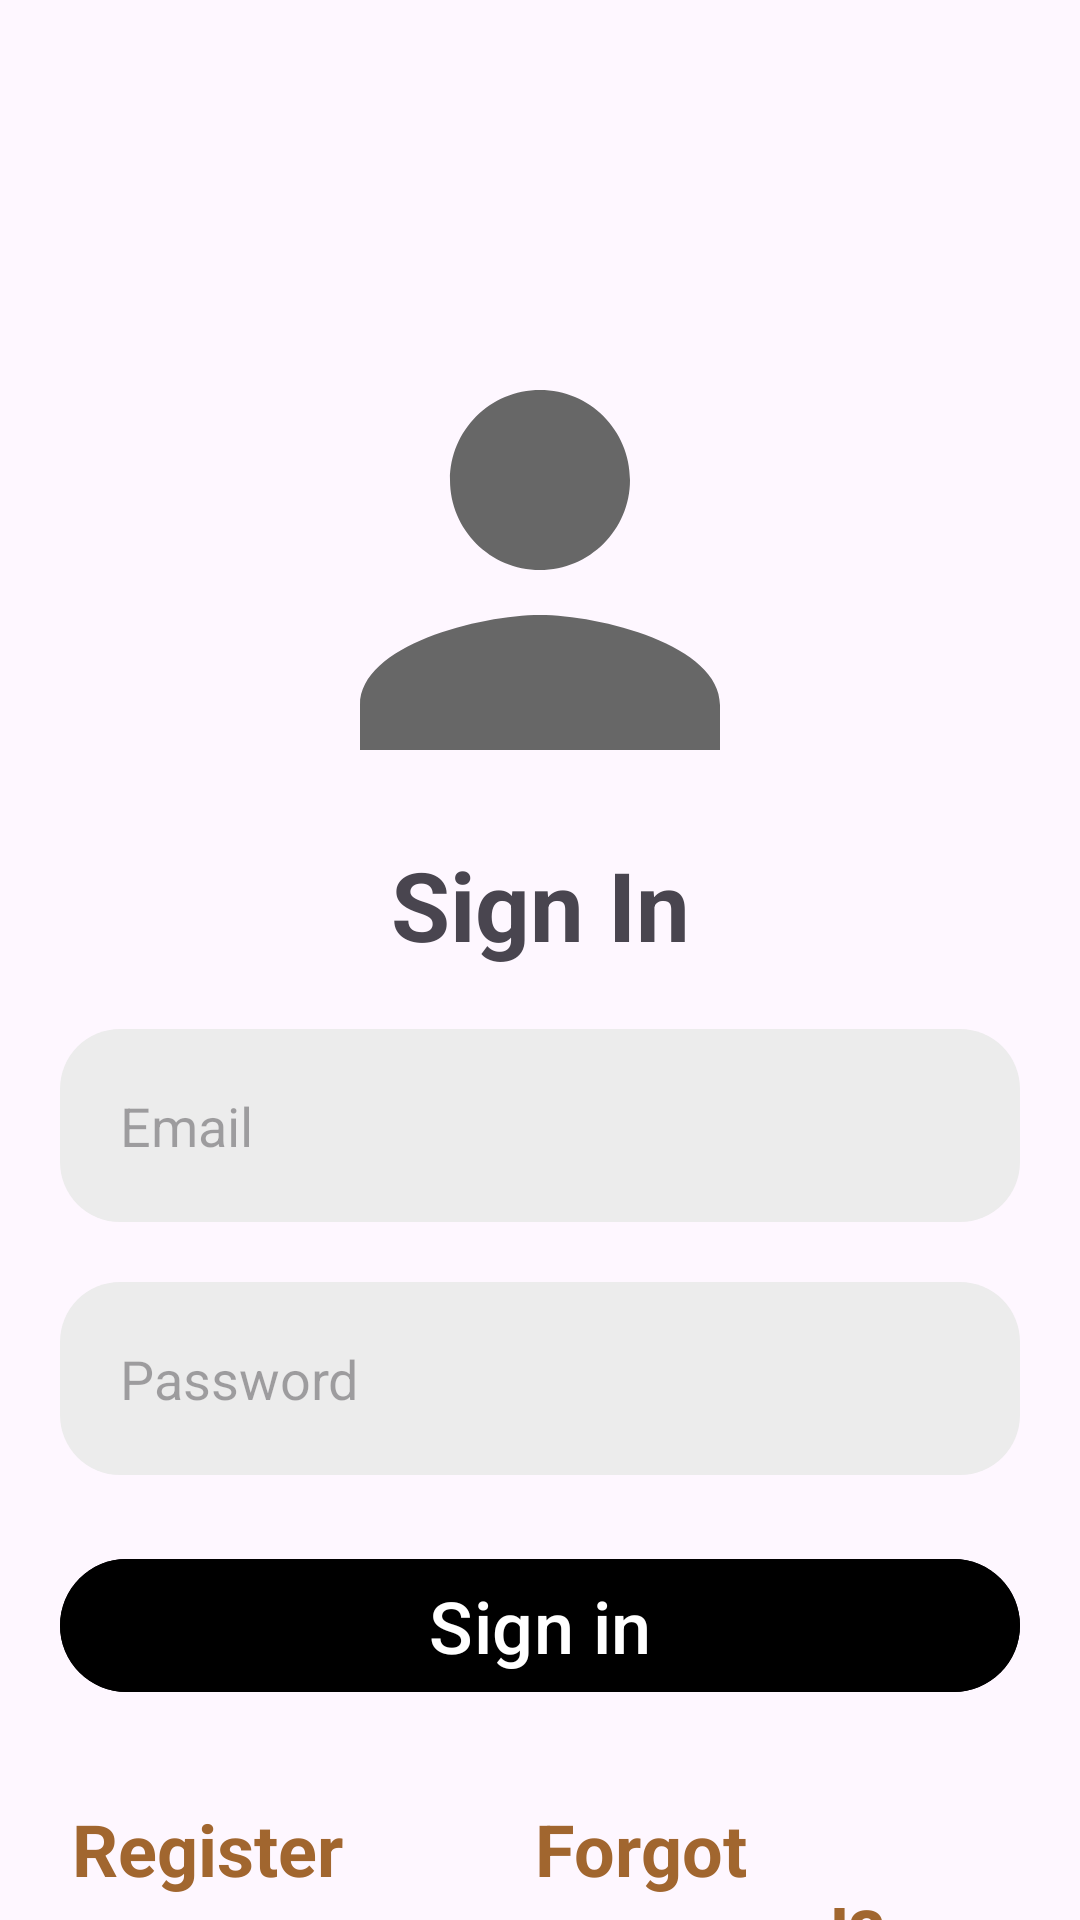

Screen size 1080 × 1920. Icon name, then its box in pixels as bbox=[x1, y1, x2, y2]:
profile: bbox=[360, 390, 720, 750]
